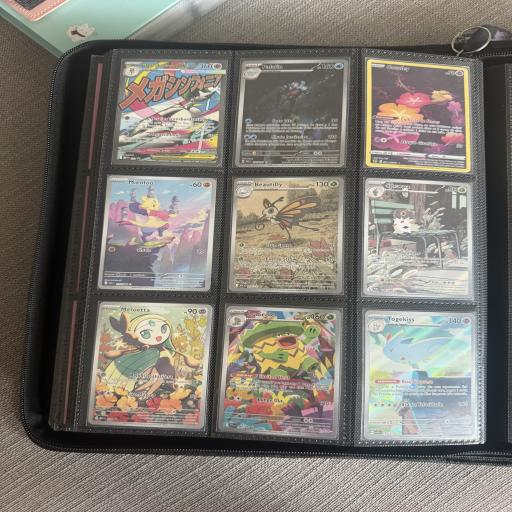card: (217, 302, 346, 439), (88, 299, 214, 430), (363, 310, 478, 441), (362, 177, 478, 299), (97, 175, 217, 292), (228, 175, 345, 294), (112, 58, 227, 167), (235, 59, 348, 166), (366, 59, 470, 173)
